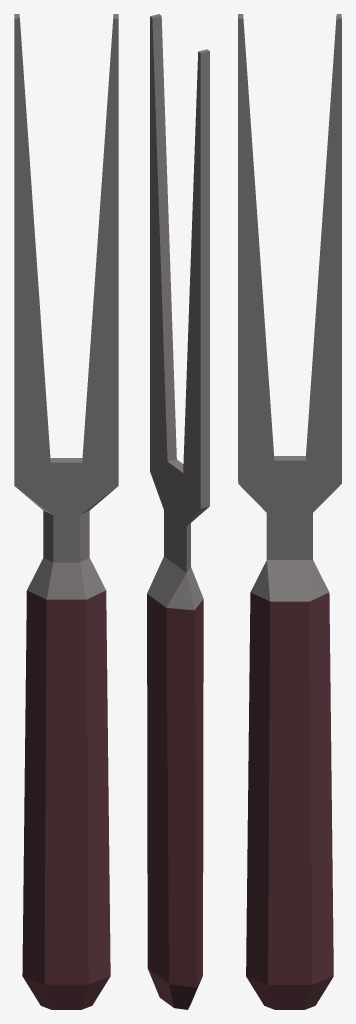
File: dishes-fork-carving.glb
The picture shows the model from 3 angles, left to right: view 1: azimuth 90°, elevation 25°; view 2: azimuth 210°, elevation 25°; view 3: azimuth 270°, elevation 25°; orthographic projection. The views are drawn at different scales.
Parts seen in each view (by area): view 1: fork-carving; view 2: fork-carving; view 3: fork-carving.
Part boxes in pixels (left/top/right/bottom): fork-carving: left=14, top=14, right=118, bottom=1009; fork-carving: left=147, top=14, right=209, bottom=1009; fork-carving: left=238, top=14, right=341, bottom=1009.
Size of the model in its own units: 0.0123 by 0.3055 by 0.0291.
